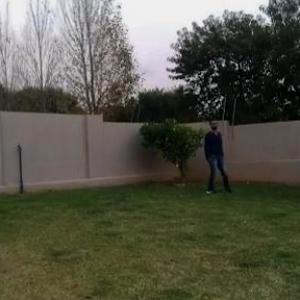follow: (205, 116, 225, 195)
